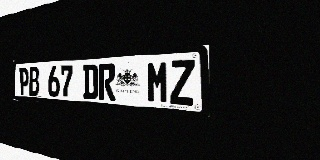6: (48, 66, 60, 97)
7: (60, 65, 73, 98)
B: (29, 67, 39, 96)
D: (83, 64, 98, 100)
M: (147, 60, 169, 104)
P: (19, 67, 29, 95)
R: (99, 63, 115, 101)
Z: (170, 59, 195, 106)
